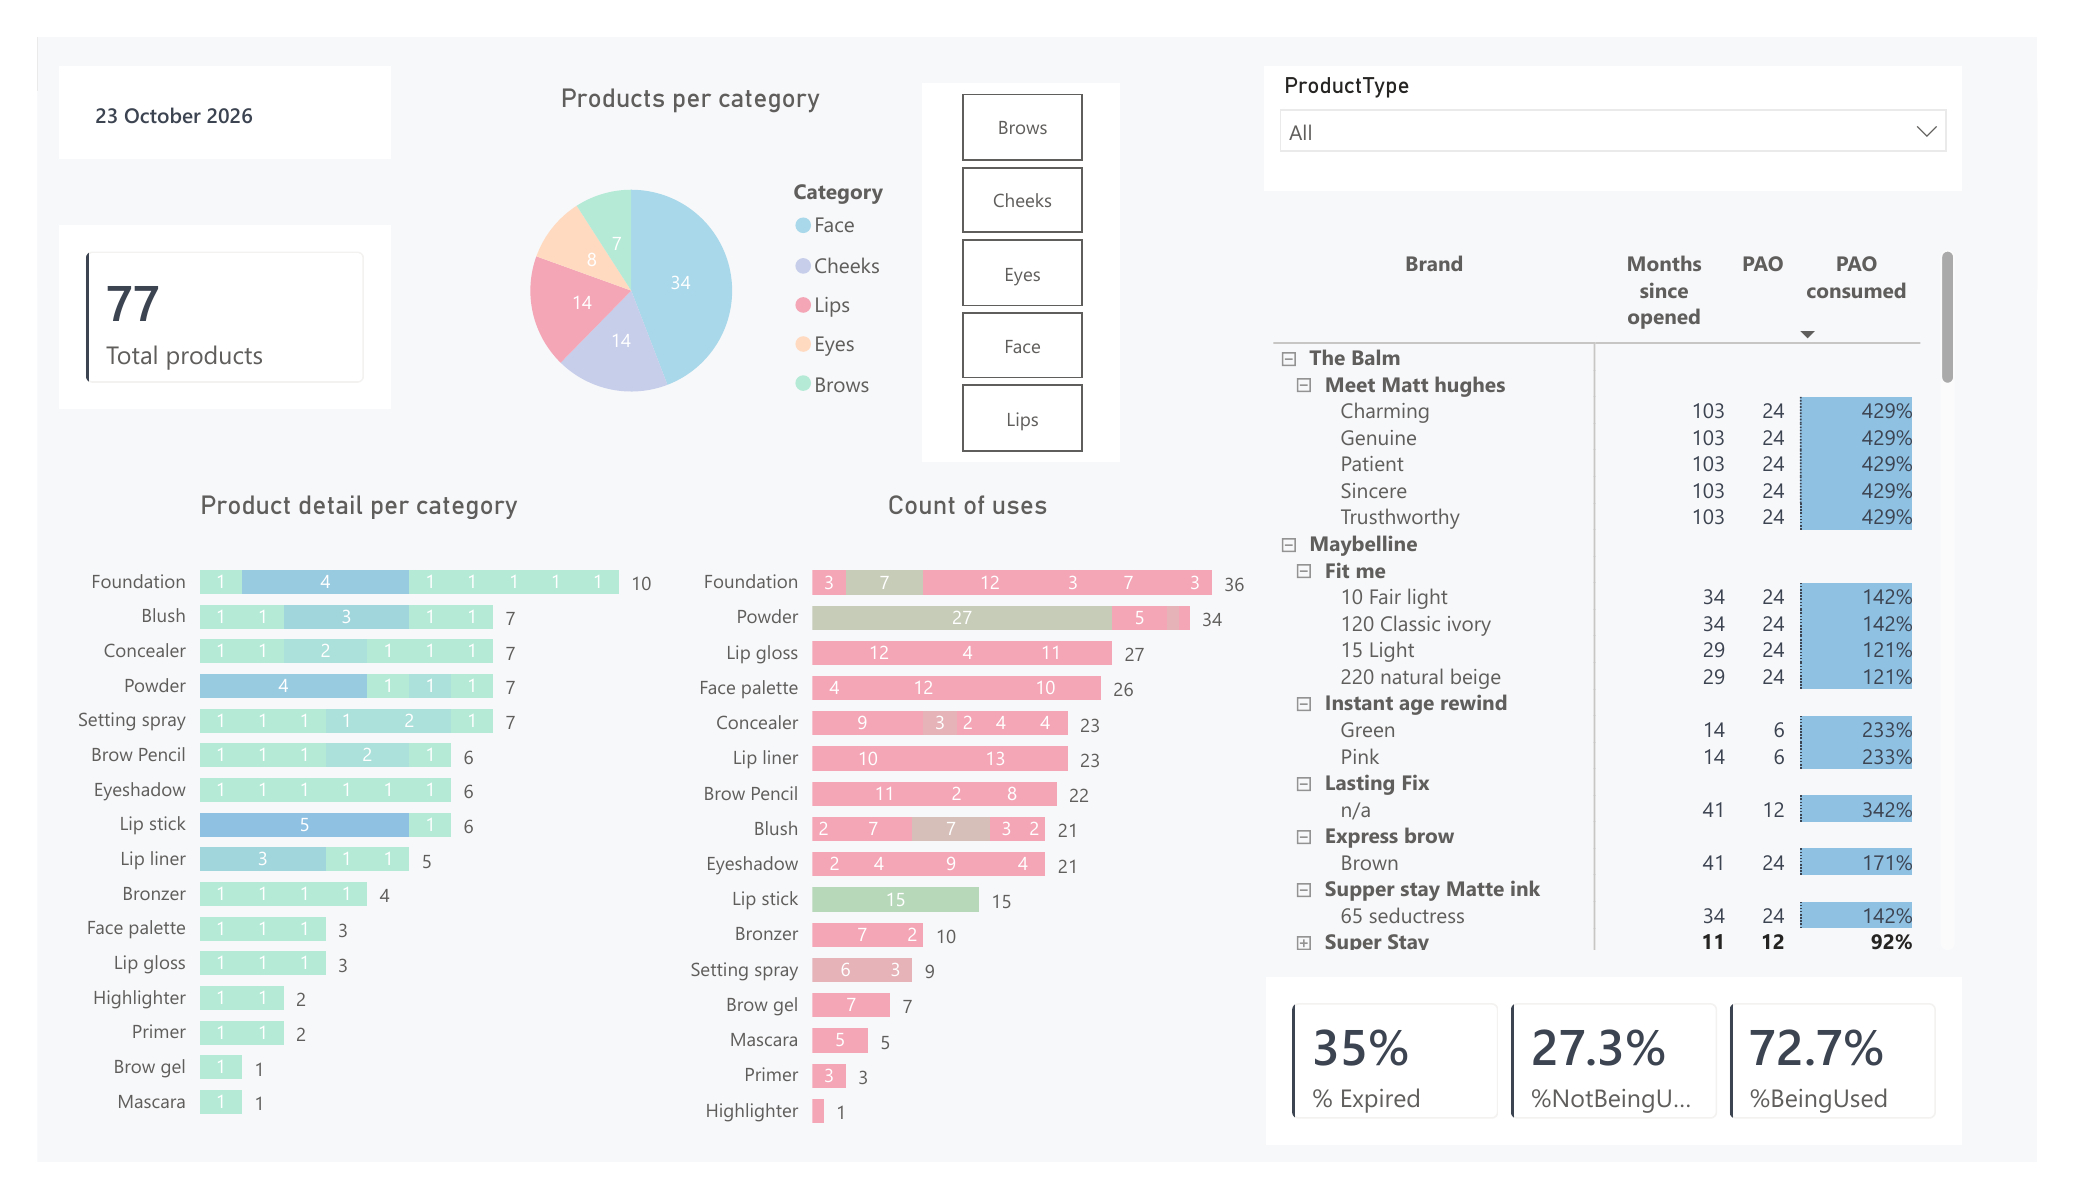

Layout of this report page (visuals, bound fields, positions):
{"tool":"powerbi","page":{"name":"Inventory","canvas":[1280,720],"ordinal":0},"visuals":[{"type":"pieChart","title":"Products per category","fields":{"Category":["Products.Category"],"Y":["CountNonNull(Products.ProductID)"]},"box":[270.5,29.3,294.6,235.5],"z":0},{"type":"barChart","title":"Product detail per category","fields":{"Category":["Products.ProductType"],"Series":["Products.ProductName"],"Y":["CountNonNull(Products.ProductID)"]},"box":[13.6,289.2,384.1,413.5],"z":1000},{"type":"barChart","title":"Count of uses","fields":{"Category":["Products.ProductType"],"Series":["Products.ProductName"],"Y":["Sum(Usage log.UsesSeptember)"]},"box":[405.6,289.2,379.6,420.3],"z":2000},{"type":"slicer","fields":{"Values":["Usage log.Category"]},"box":[585.5,29.3,146.4,228.1],"z":3000},{"type":"cardVisual","fields":{"Data":["CountNonNull(Products.ProductID)"]},"box":[12.1,125.2,212.8,139.2],"z":4000},{"type":"pivotTable","fields":{"Rows":["Products.Brand","Products.ProductName","Products.Shade"],"Values":["Products.TimeFromOpening","Sum(Products.ExpiryMonthsAfterOpening)","Products.%BeforeExpiring"]},"box":[785.4,29.3,446.2,674.3],"z":5000},{"type":"cardVisual","fields":{"Data":["Products.CurrentDate"]},"box":[13.1,29.3,212.4,59.9],"z":6000}]}

Visuals, with their boxes on the page's 1280x720 design canvas (x1, y1, x2, y2). These are canvas units, not pixel positions in the 2075x1200 screenshot, which may show the page scaled, cropped or inside an application window:
"Products per category" pieChart: detection(270, 29, 565, 265)
"Product detail per category" barChart: detection(14, 289, 398, 703)
"Count of uses" barChart: detection(406, 289, 785, 710)
slicer - Usage log.Category: detection(586, 29, 732, 257)
cardVisual - CountNonNull(Products.ProductID): detection(12, 125, 225, 264)
pivotTable - Products.Brand x Products.ProductName: detection(785, 29, 1232, 704)
cardVisual - Products.CurrentDate: detection(13, 29, 226, 89)
